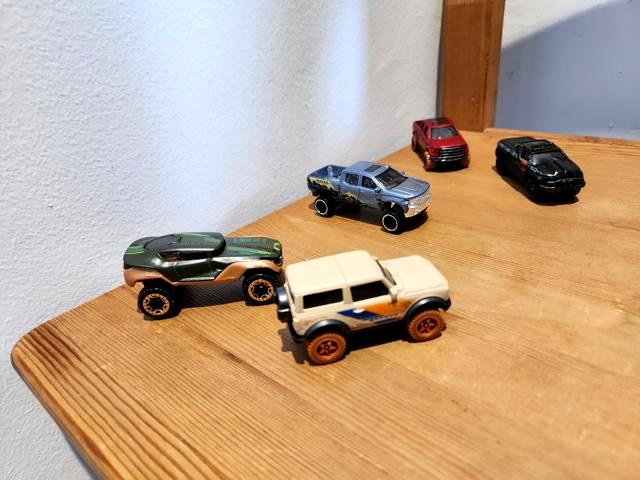toy-car: (276, 250, 451, 365), (122, 232, 284, 319), (307, 161, 431, 235), (495, 136, 587, 202), (411, 117, 471, 172)
